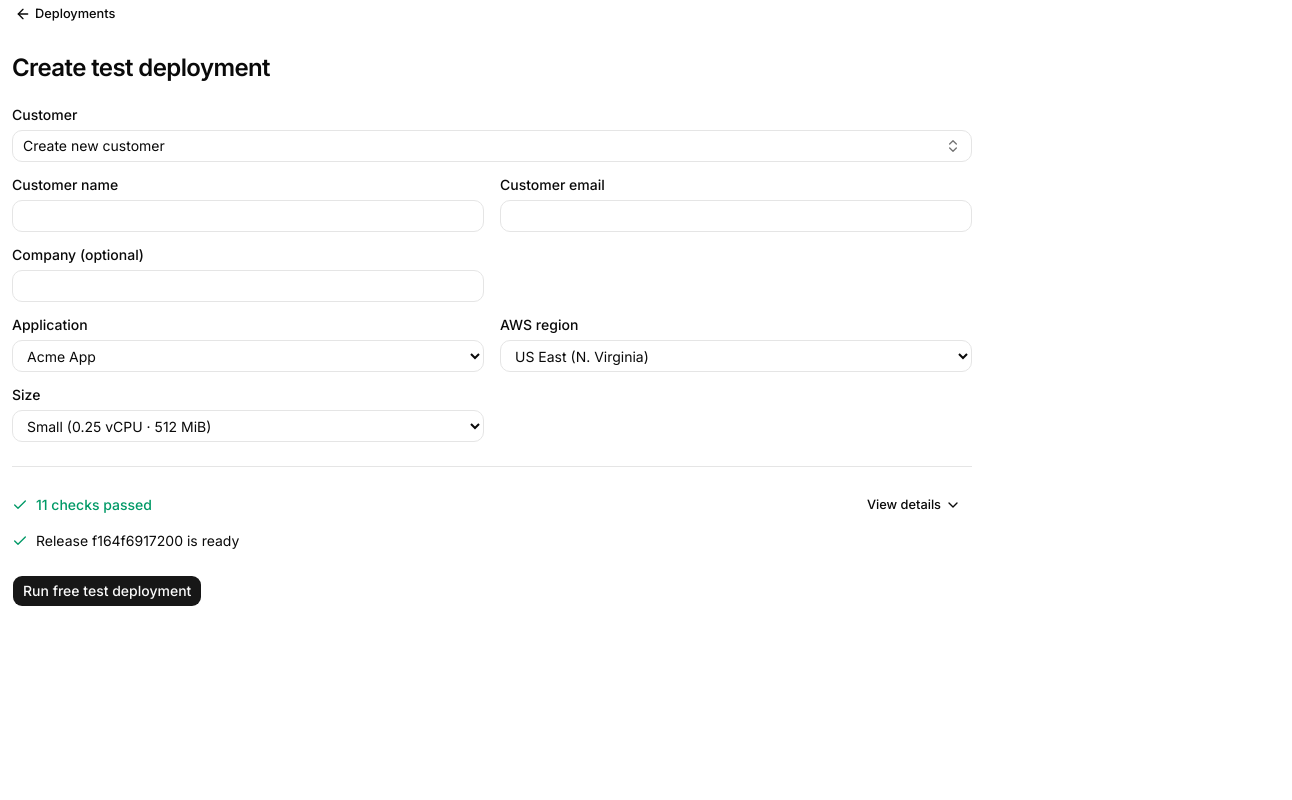
create test deployment page (readiness and release status) › shows one passed line with collapsed checks and enables the action when the release is ready
Expected: the text with test id "preflight-heading" reads "11 checks passed", [36,496,152,513]
Expected: the element with test id "install-release" reads "Release f164f6917200 is ready", [12,532,239,549]
What coordinates should you click on to do the following:
click the button "View details"
I would click on:
 (914, 505)
Its box is [856,491,972,519].
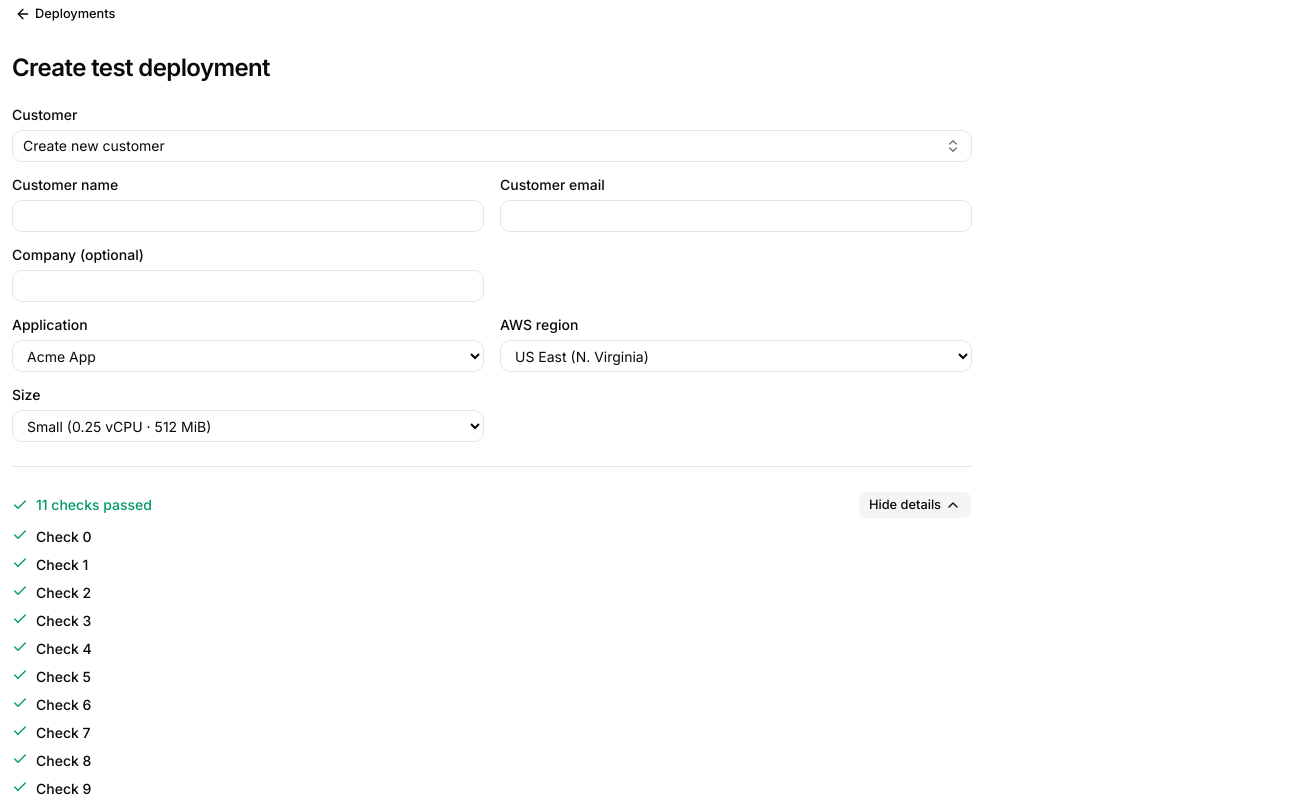
Result: the number of list items is 11
